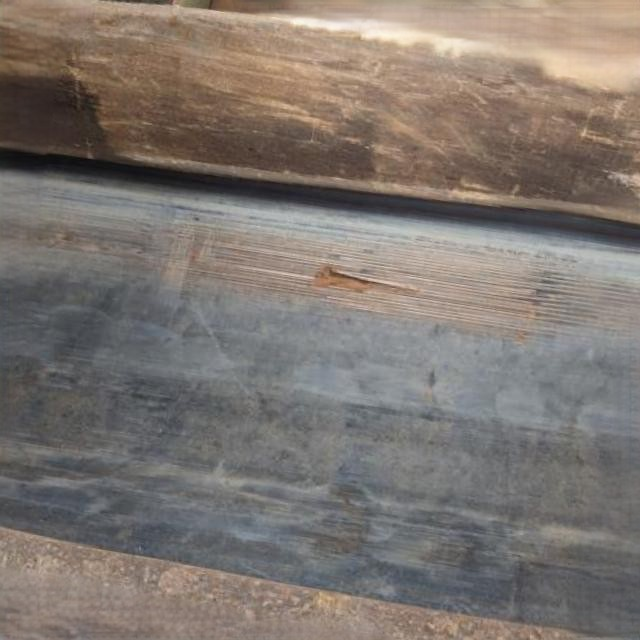Wear: (9, 181, 640, 349)
